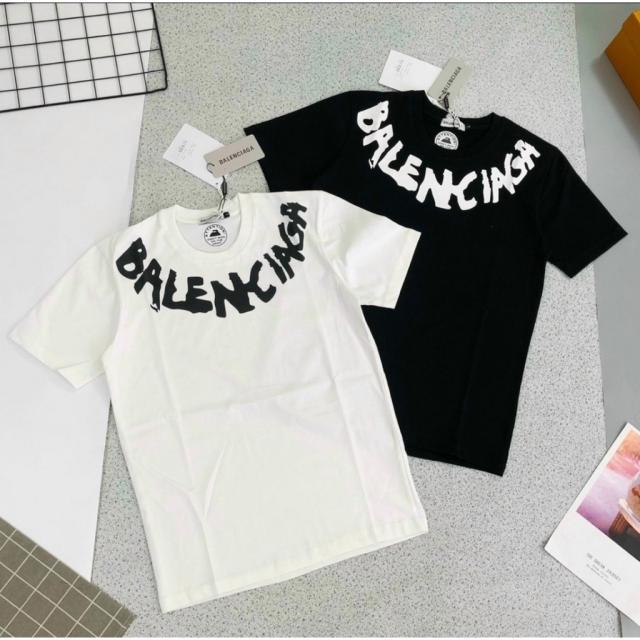Shirt: (11, 190, 432, 612), (256, 80, 624, 487)
